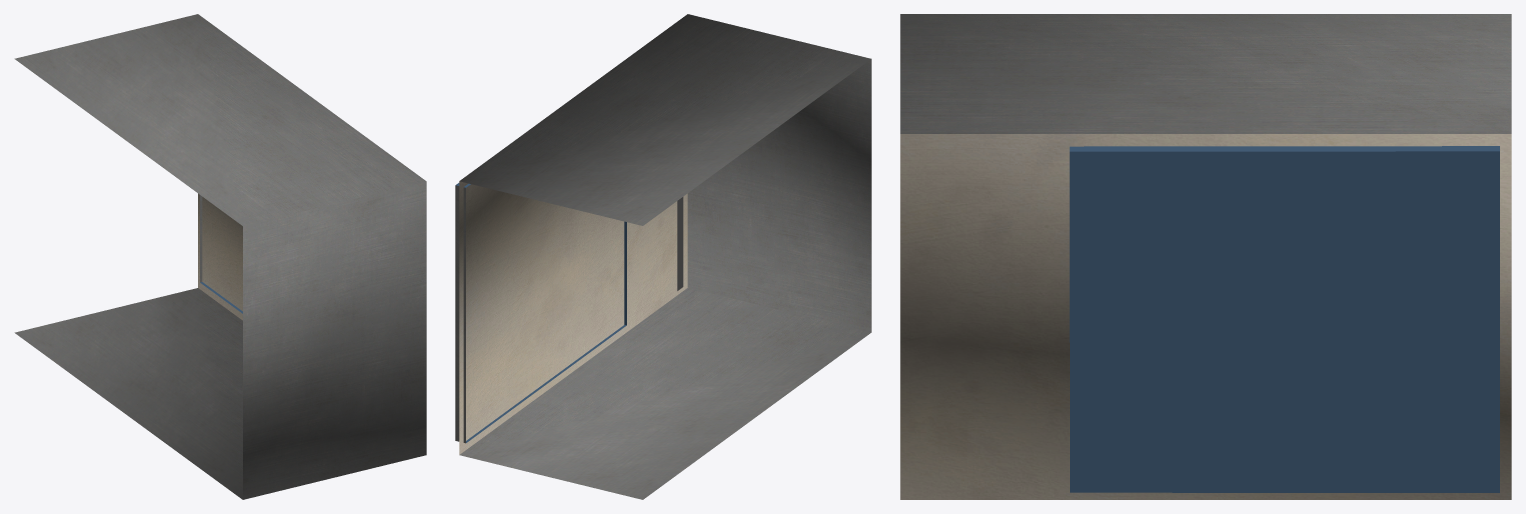
File: nt_2020_food_dispenser_blue_LOD2.obj
The picture shows the model from 3 angles, left to right: view 1: azimuth 30°, elevation 25°; view 2: azimuth 150°, elevation 25°; view 3: azimuth 270°, elevation 25°; orthographic projection. The views are drawn at different scales.
Visible parts, largest first — view 1: metal_stainless_steel_editor, pent_art_wall_creampaint02; view 2: metal_stainless_steel_editor, pent_art_wall_creampaint02, nt_2020_plastic_blue, mtl_nt_2020_food_disp_decals; view 3: nt_2020_plastic_blue, pent_art_wall_creampaint02, metal_stainless_steel_editor.
Part boxes in pixels (x1=…): metal_stainless_steel_editor: x1=14, y1=14, x2=426, y2=499; pent_art_wall_creampaint02: x1=198, y1=193, x2=242, y2=320; metal_stainless_steel_editor: x1=455, y1=14, x2=871, y2=499; pent_art_wall_creampaint02: x1=459, y1=181, x2=687, y2=454; nt_2020_plastic_blue: x1=456, y1=183, x2=626, y2=442; mtl_nt_2020_food_disp_decals: x1=677, y1=197, x2=683, y2=290; nt_2020_plastic_blue: x1=1069, y1=146, x2=1499, y2=492; pent_art_wall_creampaint02: x1=900, y1=134, x2=1511, y2=499; metal_stainless_steel_editor: x1=900, y1=14, x2=1511, y2=133.
Bounding box in the file's own units: 68.93 × 94.03 × 142.
